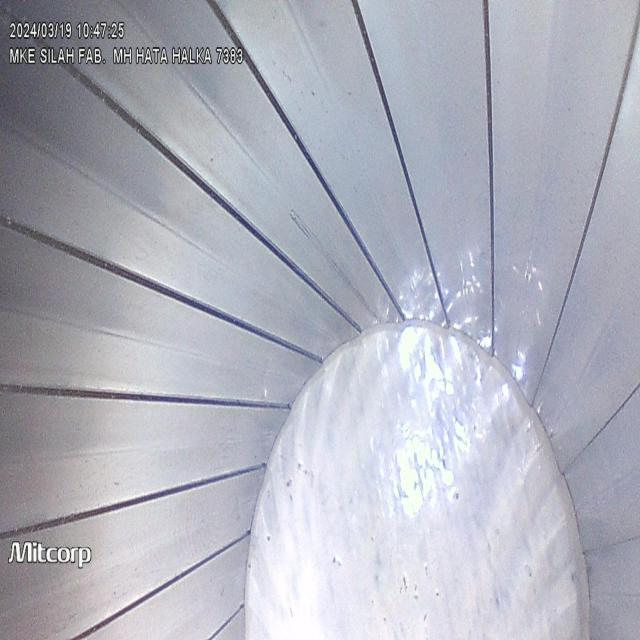hata_8.1: (287, 194, 398, 340)
